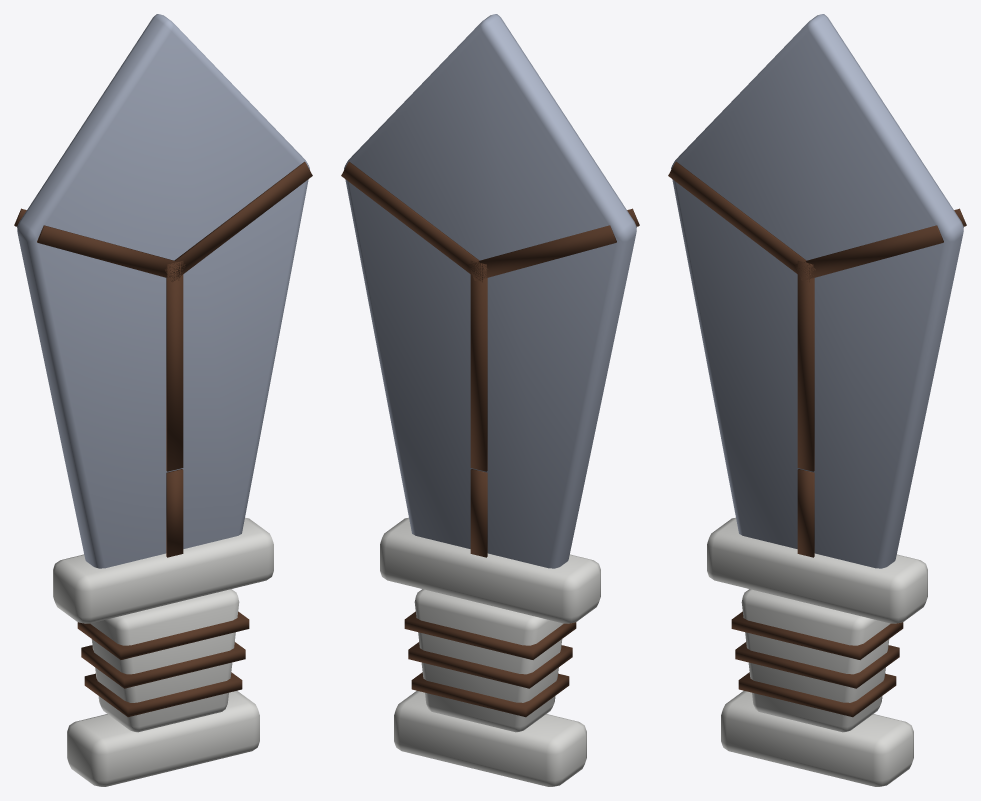
Rendered from sword.glb.
The picture shows the model from 3 angles, left to right: view 1: azimuth 30°, elevation 25°; view 2: azimuth 150°, elevation 25°; view 3: azimuth 330°, elevation 25°; orthographic projection.
Visible parts, largest first — view 1: sword; view 2: sword; view 3: sword.
Part boxes in pixels (box(x1,y1,x2,y2)): sword: box(14, 14, 312, 786); sword: box(341, 14, 639, 786); sword: box(668, 14, 966, 786).
Bounding box in the file's own units: 0.1584 × 0.3982 × 0.042.
